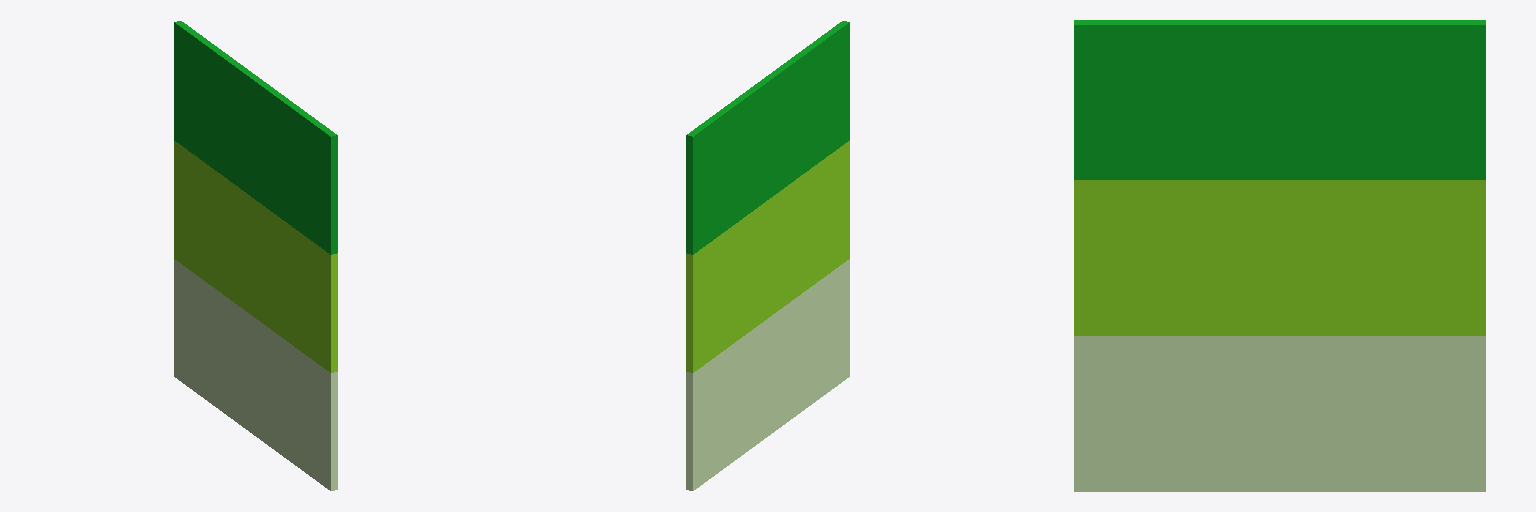
URDF robot description (board_food):
<?xml version="1.0"?>
<!-- FoodBoard: 緑系ストライプ (board.urdf と同形状) -->
<robot name="board_food">
  <material name="green">
    <color rgba="0.1 0.7 0.2 1.0"/>
  </material>
  <material name="lime">
    <color rgba="0.6 0.9 0.2 1.0"/>
  </material>
  <material name="pale_green">
    <color rgba="0.85 0.95 0.75 1.0"/>
  </material>

  <link name="base_link">
    <inertial>
      <mass value="1.0"/>
      <origin xyz="0 0 0.5" rpy="0 0 0"/>
      <inertia ixx="2.17" ixy="0" ixz="0" iyy="0.083" iyz="0" izz="2.08"/>
    </inertial>

    <visual>
      <origin xyz="0 0 0.833" rpy="0 0 0"/>
      <geometry>
        <box size="0.02 0.8 0.333"/>
      </geometry>
      <material name="green"/>
    </visual>

    <visual>
      <origin xyz="0 0 0.5" rpy="0 0 0"/>
      <geometry>
        <box size="0.02 0.8 0.334"/>
      </geometry>
      <material name="lime"/>
    </visual>

    <visual>
      <origin xyz="0 0 0.167" rpy="0 0 0"/>
      <geometry>
        <box size="0.02 0.8 0.333"/>
      </geometry>
      <material name="pale_green"/>
    </visual>

    <collision>
      <origin xyz="0 0 0.5" rpy="0 0 0"/>
      <geometry>
        <box size="0.02 0.8 1.0"/>
      </geometry>
    </collision>
  </link>
</robot>

--- What the picture shows (computed from the rendered views, not written in the file) ---
The picture shows the robot from 3 angles, left to right: view 1: azimuth 30°, elevation 25°; view 2: azimuth 150°, elevation 25°; view 3: azimuth 270°, elevation 25°; orthographic projection.
Model board_food with 1 links and 0 joints (none), rooted at base_link, posed every joint at zero.
Visible links, largest first — view 1: base_link; view 2: base_link; view 3: base_link.
Link boxes in pixels (<box>): base_link: <box>174,21,337,490</box>; base_link: <box>686,21,849,490</box>; base_link: <box>1074,20,1485,491</box>.
Bounding box of the posed robot: 0.02 × 0.8 × 0.999 m (x, y, z).
Geometry: primitives only (box / cylinder / sphere), no mesh files.
